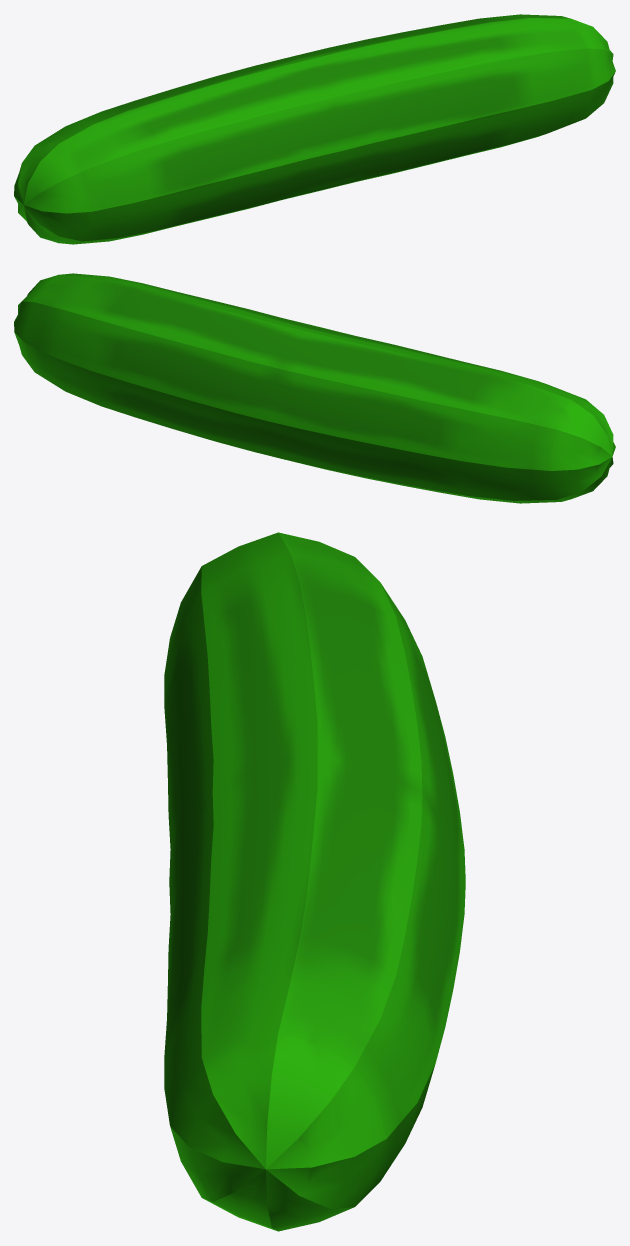
File: salatalık.fbx
The picture shows the model from 3 angles, top to bottom: view 1: azimuth 30°, elevation 25°; view 2: azimuth 150°, elevation 25°; view 3: azimuth 270°, elevation 25°; orthographic projection. The views are drawn at different scales.
Visible parts, largest first — view 1: Sphere; view 2: Sphere; view 3: Sphere.
Part boxes in pixels (x1,y1,x2,y2): Sphere: (14,14,615,244); Sphere: (14,273,615,503); Sphere: (164,532,465,1231).
Bounding box in the file's own units: 899 × 184 × 199.
